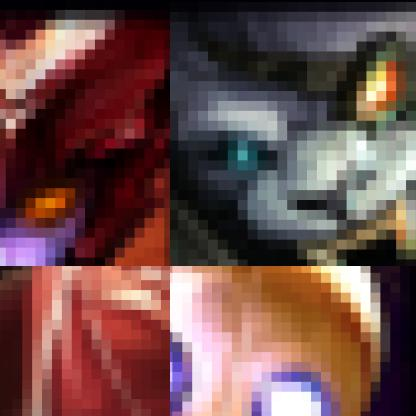Blitzcrank: (170, 266, 415, 415)
Rengar: (170, 0, 415, 265)
Shyvana: (0, 0, 169, 265)
Vladimir: (0, 266, 169, 415)
